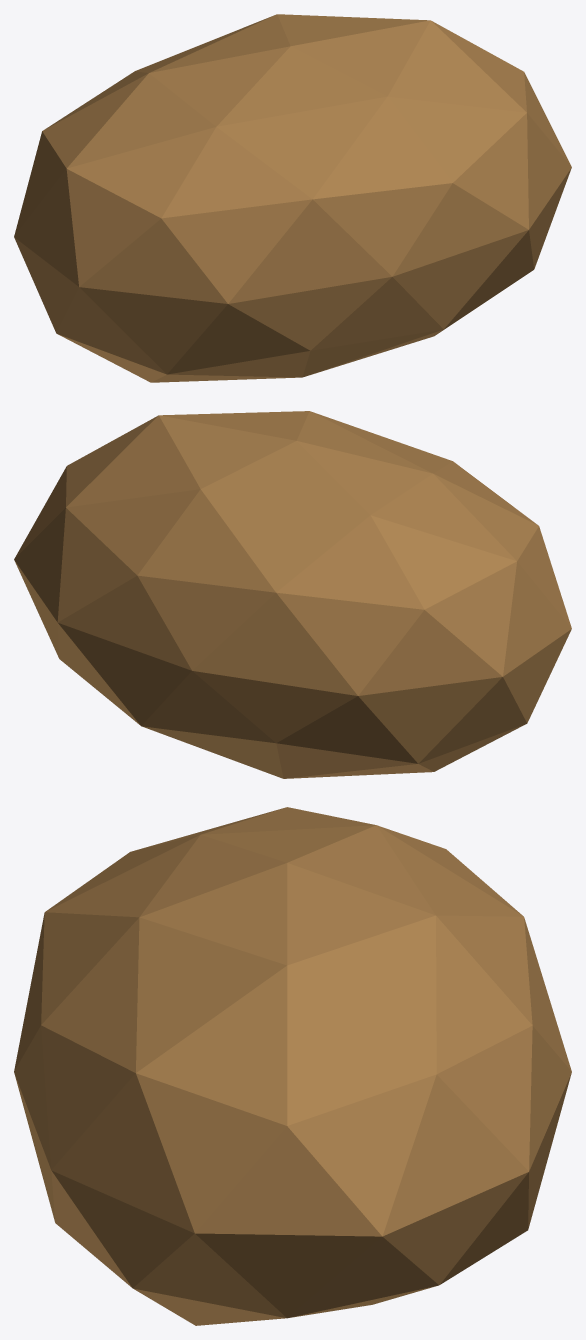
File: potato_whole.glb
3 renders of one model, top to bottom at view 1: azimuth 30°, elevation 25°; view 2: azimuth 150°, elevation 25°; view 3: azimuth 270°, elevation 25°, orthographic. The views are drawn at different scales.
Parts seen in each view (by area): view 1: potato_whole_0; view 2: potato_whole_0; view 3: potato_whole_0.
Boxes of the visible parts, x1=… form: potato_whole_0: x1=14, y1=14, x2=571, y2=382; potato_whole_0: x1=14, y1=411, x2=571, y2=778; potato_whole_0: x1=14, y1=807, x2=571, y2=1325.
Bounding box in the file's own units: 0.2858 × 0.1706 × 0.2072.
